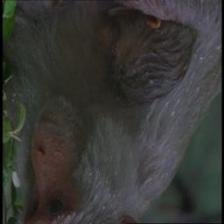monkey: (1, 81, 89, 223), (93, 0, 203, 108)
